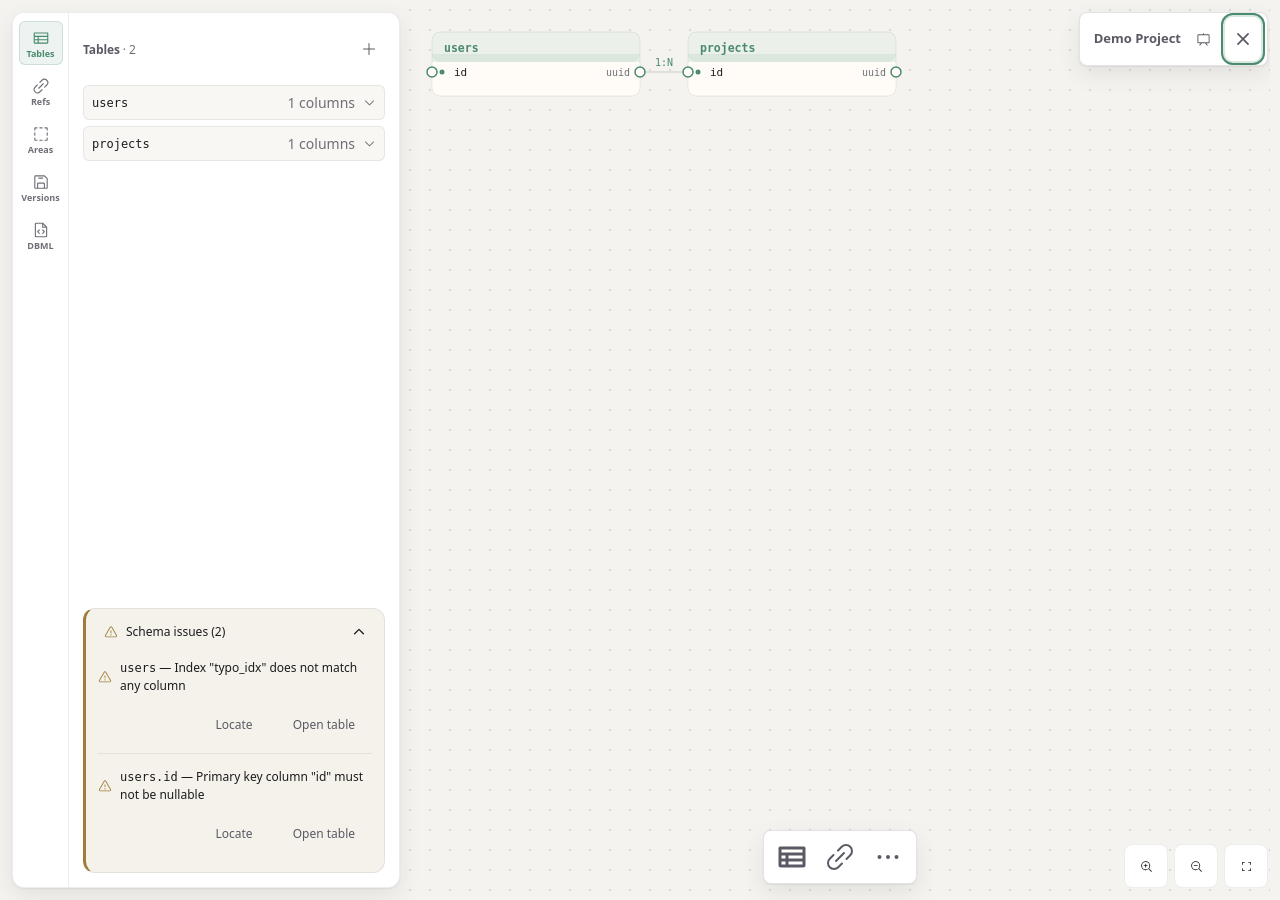
it: SchemaPage U1 ERD canvas mode › narrow: pill ringkas — Table + Relation + …; sheet berisi sisanya
This screenshot has width=1280, height=900.
Expected: the 2nd button named "New table" is shown, [770,835,814,879]
Expected: the button named "New relation" is shown, [818,835,862,879]
Buka sheet … : New Area, Tidy, Export, Import.
Click the button named "More actions". click: {"x": 888, "y": 857}
box: [866,835,910,879]
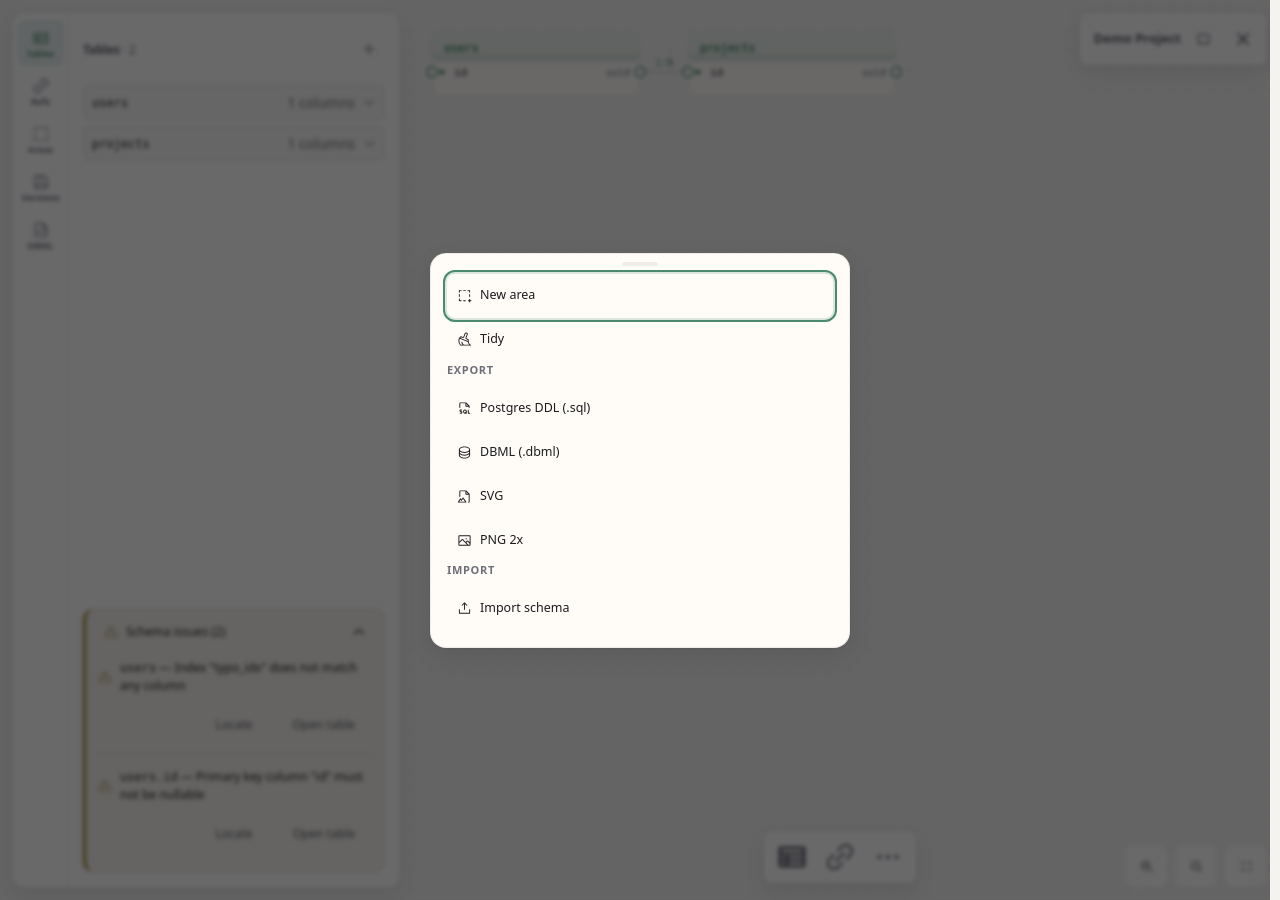
Now the button "New area" is shown
Now the button "Tidy" is shown, box [447,318,833,362]
Now the button "Postgres DDL (.sql)" is shown, box [447,386,833,430]
New Area dari sheet: dispatch + sheet tertutup.
Click the button "New area". click: {"x": 508, "y": 295}
box: [447,274,833,318]
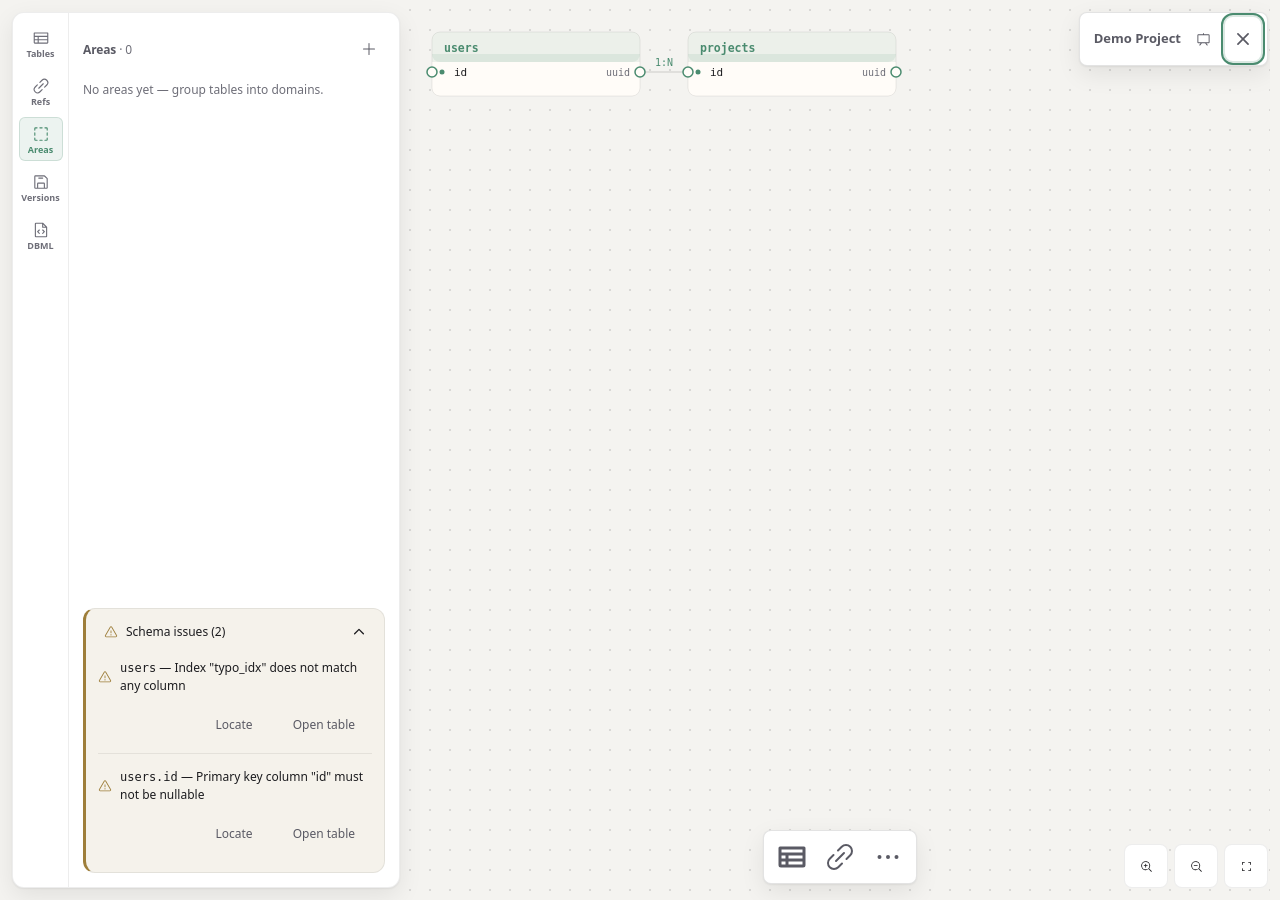
Now the button "Postgres DDL" is gone
